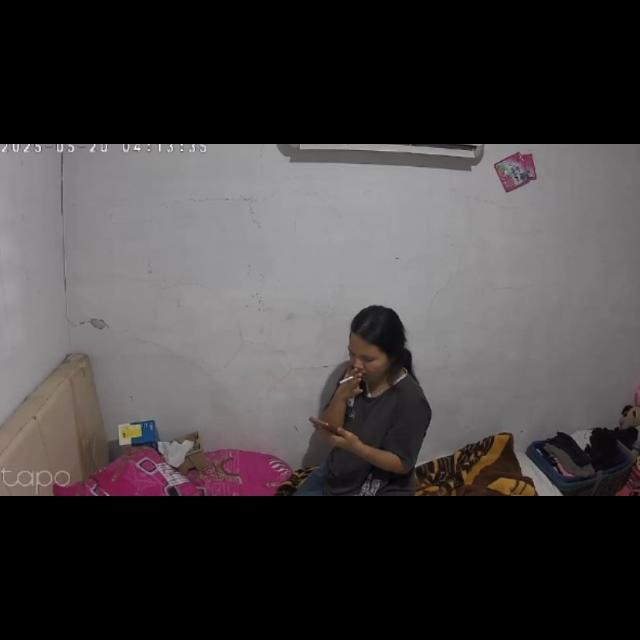rokok: (334, 373, 358, 385)
